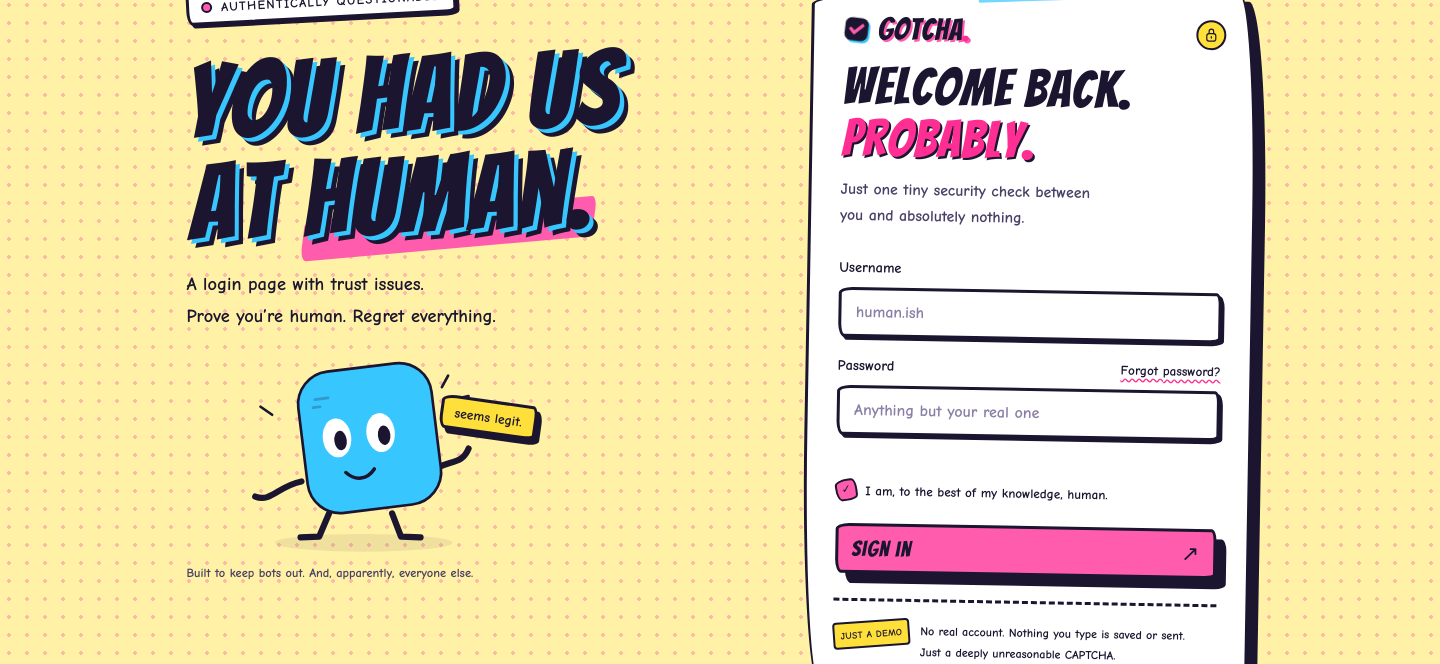
Test: GotCha app › shows an actionable error for an unknown override
The image size is (1440, 664).
(page scrolled)
Step 1. Click the button "Sign in ↗" → (881,548), box [833,521,1217,580]
(page scrolled)
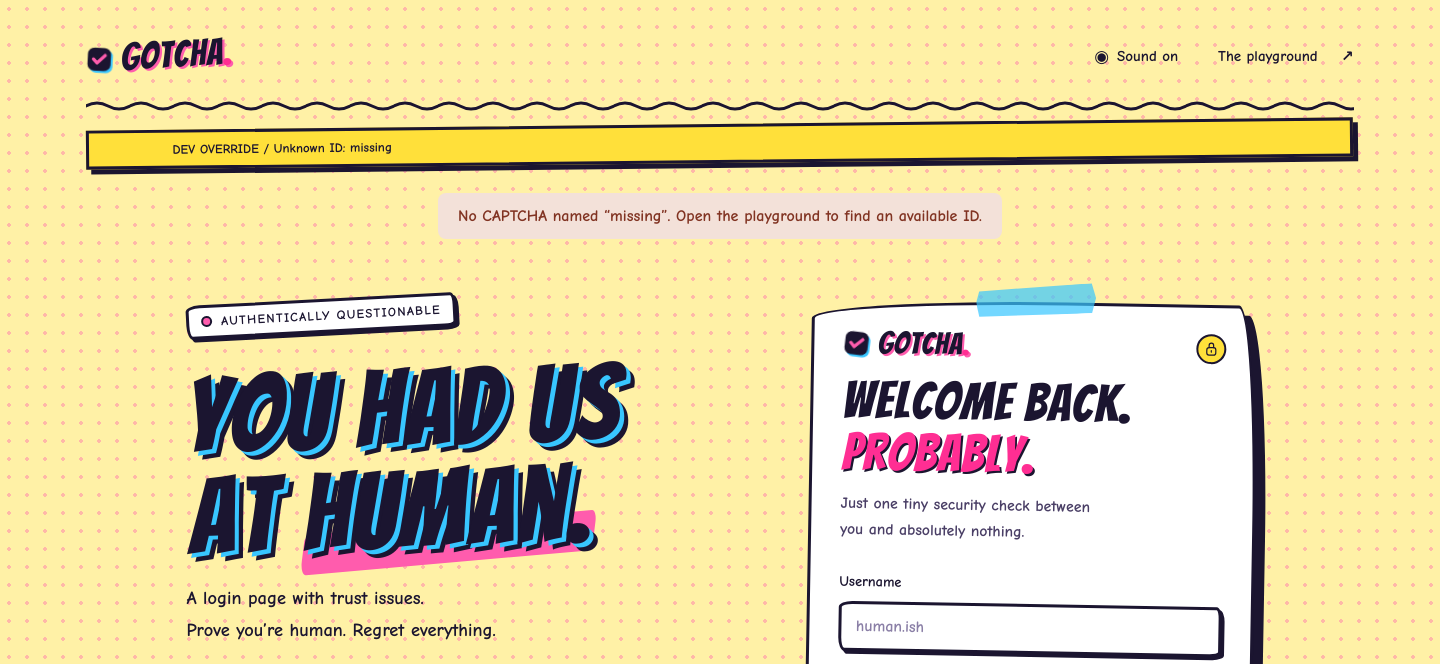
Now the message "No CAPTCHA named “missing”. Open the playground to find an available ID." shows "No CAPTCHA named “missing”", box [458,207,982,225]
